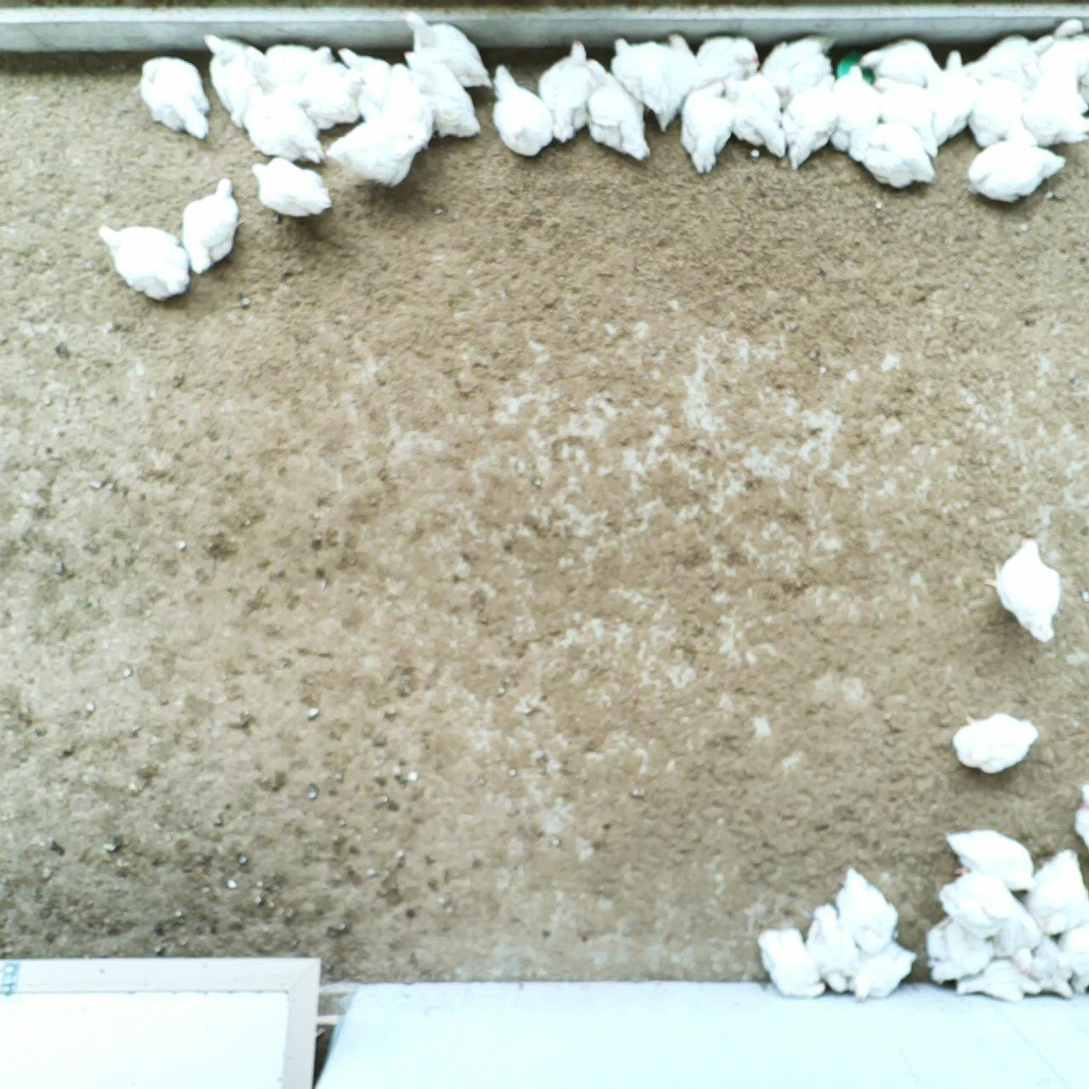chicken: (981, 531, 1062, 647), (91, 220, 194, 304), (327, 112, 432, 190), (398, 7, 492, 94), (580, 55, 651, 164), (537, 37, 606, 147), (402, 49, 482, 143), (487, 63, 560, 163), (134, 52, 211, 146), (962, 137, 1070, 204), (237, 83, 325, 164), (940, 824, 1039, 892), (778, 72, 844, 174), (949, 708, 1043, 779), (845, 120, 939, 191), (179, 177, 246, 276), (201, 32, 267, 130), (720, 71, 790, 161), (832, 864, 900, 956), (870, 73, 942, 158), (1020, 847, 1089, 934), (802, 900, 861, 1000), (934, 868, 1017, 939), (247, 157, 337, 222), (679, 77, 736, 176), (964, 29, 1058, 89), (754, 925, 827, 1001), (763, 35, 839, 108), (965, 76, 1041, 146), (284, 58, 364, 124), (924, 913, 996, 986), (830, 60, 883, 157), (652, 28, 699, 136), (380, 60, 436, 150), (928, 47, 978, 143), (338, 48, 406, 114), (1019, 79, 1089, 143), (242, 39, 335, 86), (857, 36, 941, 86), (610, 35, 662, 115), (987, 903, 1043, 977), (955, 956, 1041, 1004), (851, 945, 916, 1008), (1019, 931, 1077, 1001), (694, 32, 761, 87), (1041, 19, 1089, 79), (1055, 921, 1089, 994)
